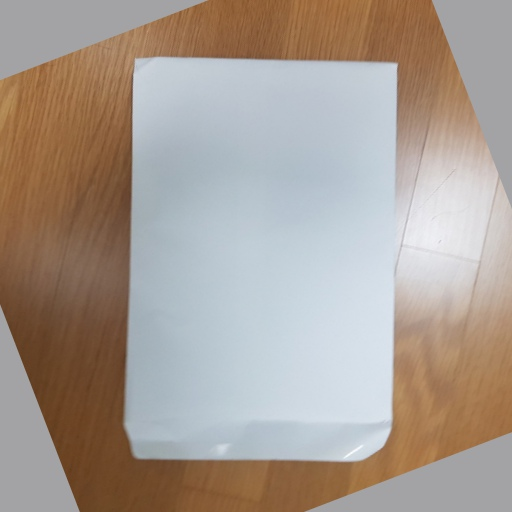Paper_2: (126, 52, 413, 474)
